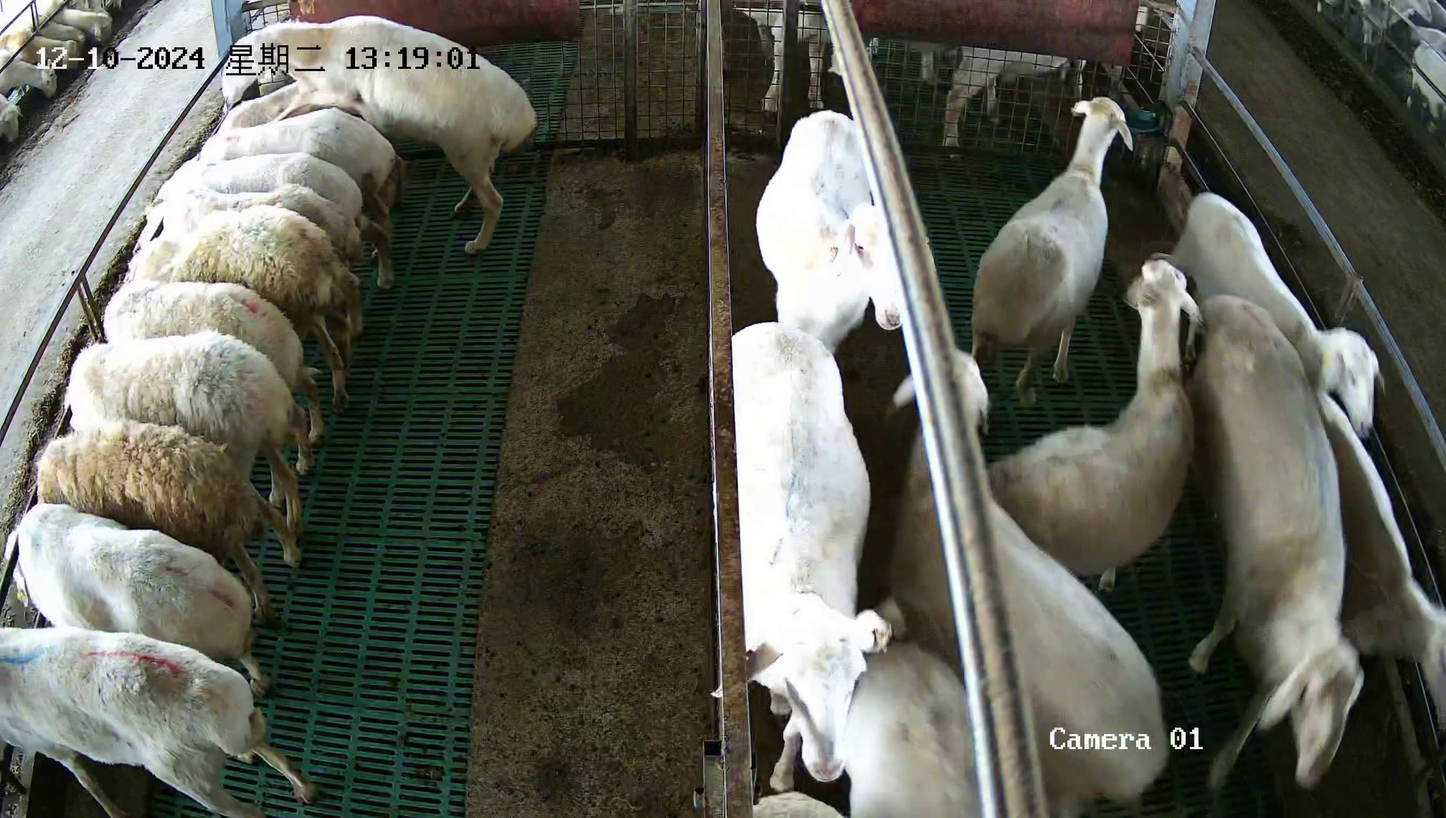Nmounting: (216, 13, 534, 256)
